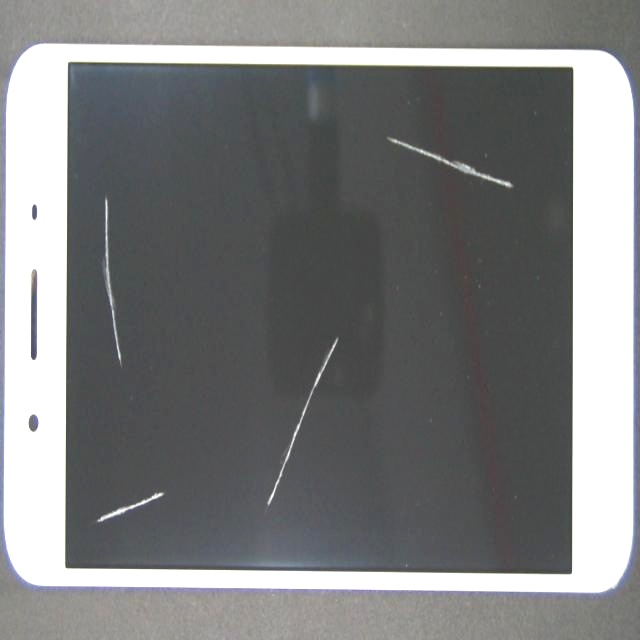scratch: (202, 69, 462, 571), (126, 223, 212, 640), (333, 129, 640, 238), (84, 284, 189, 458)
